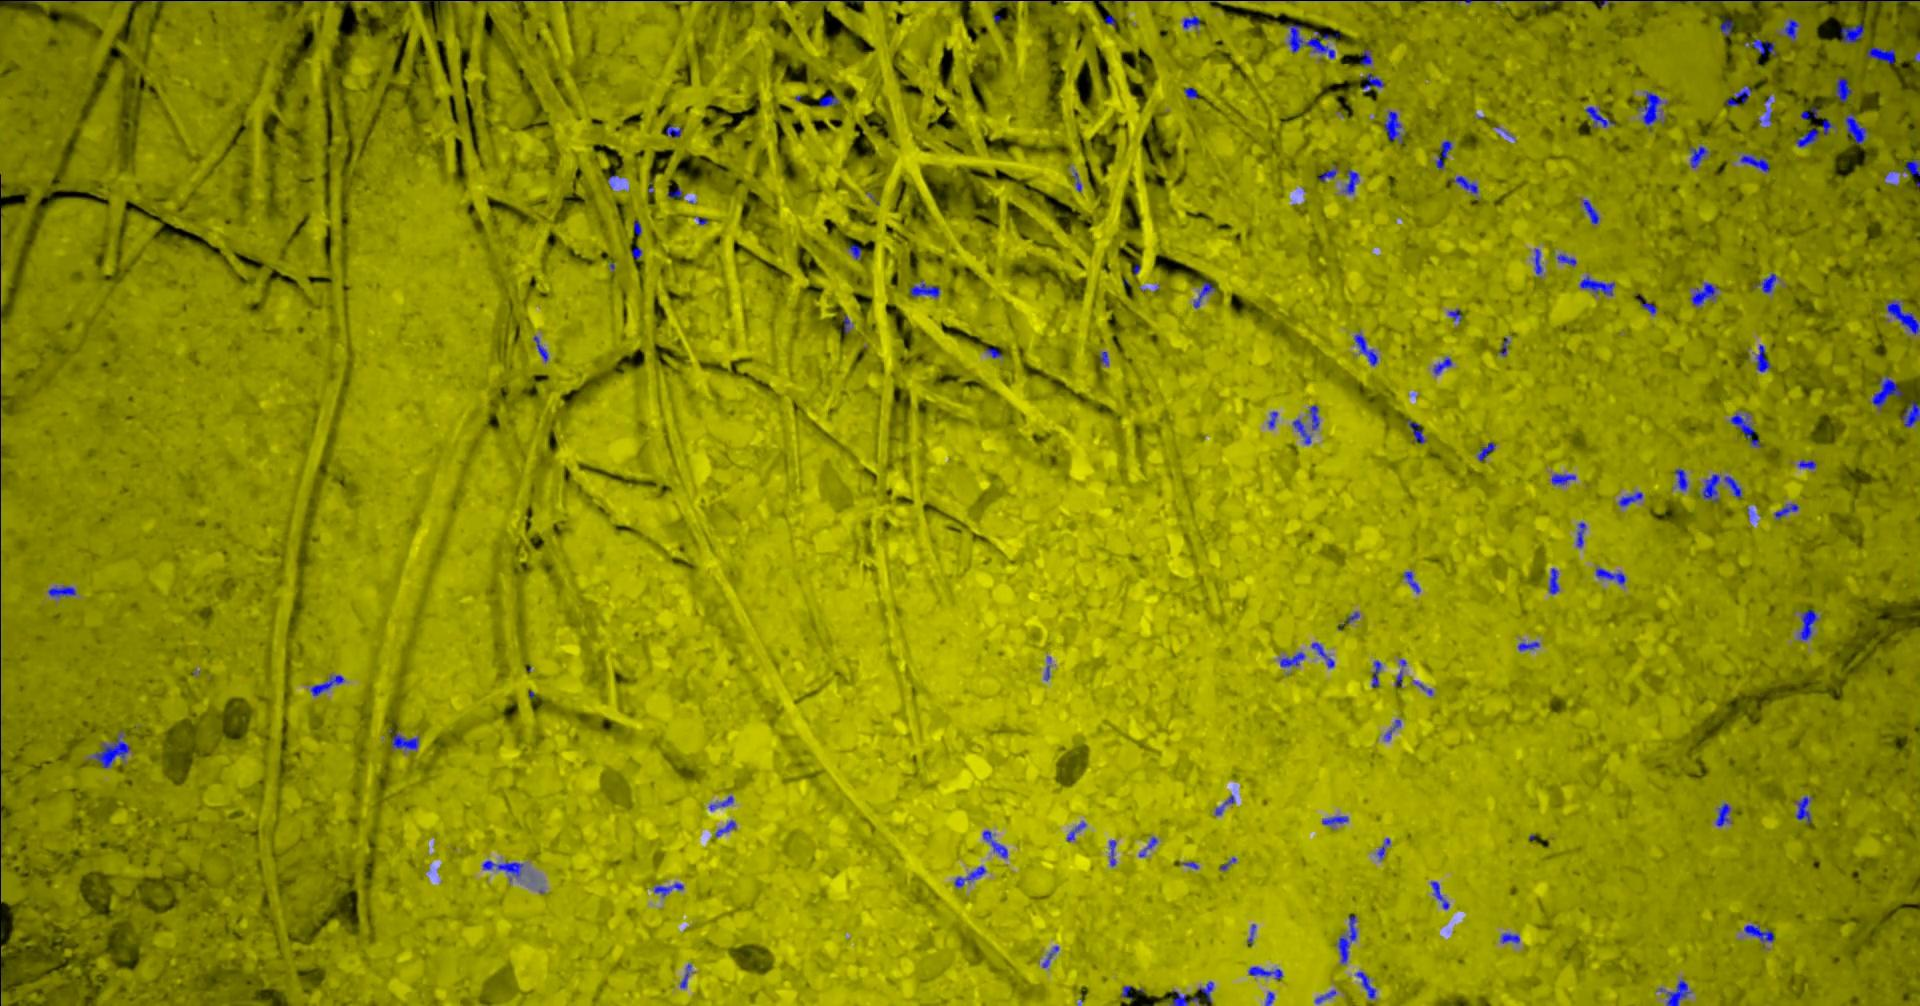ant: (1285, 23, 1335, 58), (93, 730, 130, 767), (1886, 298, 1919, 335), (1702, 473, 1742, 502), (1730, 412, 1761, 447), (1870, 375, 1902, 408), (1796, 119, 1832, 146), (1336, 915, 1356, 963), (1637, 91, 1661, 131), (481, 860, 523, 880), (1352, 332, 1377, 365), (1843, 112, 1867, 144), (982, 829, 1007, 857), (310, 674, 344, 695), (1583, 105, 1615, 127), (954, 865, 985, 887), (1578, 276, 1614, 295), (1689, 282, 1718, 305), (1743, 923, 1774, 945), (1192, 279, 1215, 307), (1383, 111, 1402, 144), (1798, 608, 1818, 639), (1310, 641, 1335, 667), (1666, 979, 1690, 1005), (1724, 84, 1751, 105), (1355, 970, 1375, 998), (1743, 38, 1777, 55), (1595, 567, 1625, 584), (1430, 882, 1449, 909), (1865, 46, 1895, 64), (1738, 154, 1768, 171), (909, 279, 938, 297), (1839, 23, 1864, 43), (1900, 400, 1919, 427), (1291, 418, 1310, 445), (1794, 795, 1812, 823), (1752, 273, 1777, 293), (1435, 140, 1451, 169), (391, 732, 418, 749), (1832, 77, 1851, 102), (1406, 419, 1425, 443), (1248, 967, 1283, 979), (1453, 175, 1477, 193), (653, 882, 683, 895), (1342, 169, 1359, 194), (1214, 795, 1234, 815), (1688, 145, 1707, 166), (1171, 989, 1197, 1005), (1582, 199, 1599, 224), (1774, 503, 1798, 520), (1363, 72, 1383, 91), (1636, 293, 1655, 314), (533, 335, 549, 361), (1476, 441, 1495, 461), (1279, 652, 1304, 667), (1065, 821, 1084, 841), (1138, 836, 1157, 856), (1756, 344, 1770, 371), (1618, 492, 1642, 507), (709, 795, 733, 810), (1383, 719, 1399, 741), (1041, 945, 1058, 967), (1783, 18, 1798, 41), (1432, 356, 1451, 373), (1316, 165, 1336, 182), (1403, 572, 1420, 592), (714, 821, 735, 836), (1197, 981, 1213, 1002), (1674, 467, 1688, 490), (47, 586, 75, 597), (1716, 803, 1730, 826), (1314, 989, 1335, 1005), (1550, 473, 1575, 485), (679, 963, 692, 987), (1548, 568, 1559, 594), (1903, 158, 1919, 177), (1719, 15, 1733, 36), (1321, 815, 1349, 826), (1371, 661, 1382, 687), (1799, 105, 1818, 119), (1556, 253, 1576, 265), (1377, 837, 1389, 857), (1309, 405, 1319, 429), (1576, 521, 1585, 547), (818, 94, 838, 105), (847, 243, 861, 259), (1182, 15, 1200, 28), (665, 124, 682, 137), (1534, 248, 1542, 274), (1109, 840, 1116, 866), (1359, 50, 1371, 65), (1500, 932, 1519, 942), (1517, 641, 1539, 650), (667, 187, 684, 197), (1797, 459, 1815, 469), (1448, 309, 1462, 321), (1121, 984, 1133, 1000), (1267, 412, 1277, 428), (1183, 86, 1197, 98), (985, 347, 1001, 357), (1832, 0, 1911, 1)
